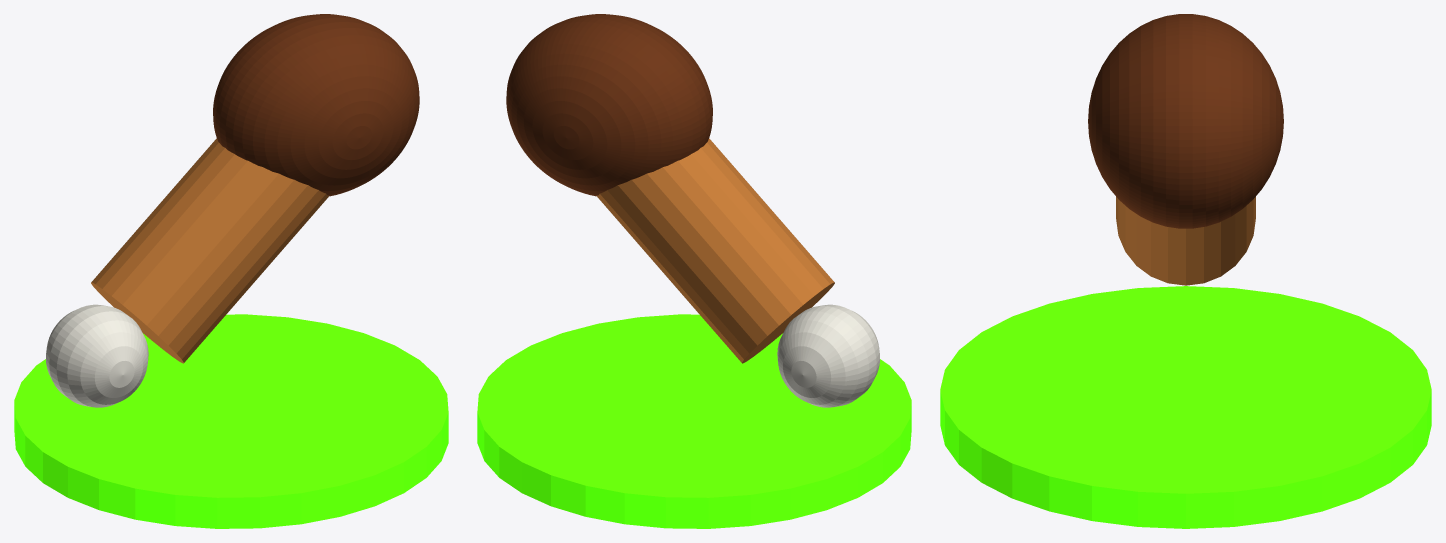
Rendered from food_chicken_drumstick.dae.
3 views of the same model, side by side, from view 1: azimuth 30°, elevation 25°; view 2: azimuth 150°, elevation 25°; view 3: azimuth 270°, elevation 25° (orthographic). The views are drawn at different scales.
Visible parts, largest first — view 1: 01_08_Popular_Food_Chicken_Drumstick_ROOT_base, 01_08_Popular_Food_Chicken_Drumstick_part_02, 01_08_Popular_Food_Chicken_Drumstick_part_01, 01_08_Popular_Food_Chicken_Drumstick_part_03; view 2: 01_08_Popular_Food_Chicken_Drumstick_ROOT_base, 01_08_Popular_Food_Chicken_Drumstick_part_02, 01_08_Popular_Food_Chicken_Drumstick_part_01, 01_08_Popular_Food_Chicken_Drumstick_part_03; view 3: 01_08_Popular_Food_Chicken_Drumstick_ROOT_base, 01_08_Popular_Food_Chicken_Drumstick_part_02, 01_08_Popular_Food_Chicken_Drumstick_part_01.
Part boxes in pixels (box(x1,y1,x2,y2)): 01_08_Popular_Food_Chicken_Drumstick_ROOT_base: box(14, 314, 448, 528); 01_08_Popular_Food_Chicken_Drumstick_part_02: box(213, 14, 419, 196); 01_08_Popular_Food_Chicken_Drumstick_part_01: box(91, 138, 329, 363); 01_08_Popular_Food_Chicken_Drumstick_part_03: box(46, 304, 148, 407); 01_08_Popular_Food_Chicken_Drumstick_ROOT_base: box(477, 314, 911, 528); 01_08_Popular_Food_Chicken_Drumstick_part_02: box(506, 14, 712, 196); 01_08_Popular_Food_Chicken_Drumstick_part_01: box(596, 138, 834, 363); 01_08_Popular_Food_Chicken_Drumstick_part_03: box(777, 304, 879, 407); 01_08_Popular_Food_Chicken_Drumstick_ROOT_base: box(940, 286, 1431, 528); 01_08_Popular_Food_Chicken_Drumstick_part_02: box(1088, 14, 1283, 228); 01_08_Popular_Food_Chicken_Drumstick_part_01: box(1116, 197, 1255, 285).
Bounding box in the file's own units: 0.76 × 0.7585 × 0.76.
